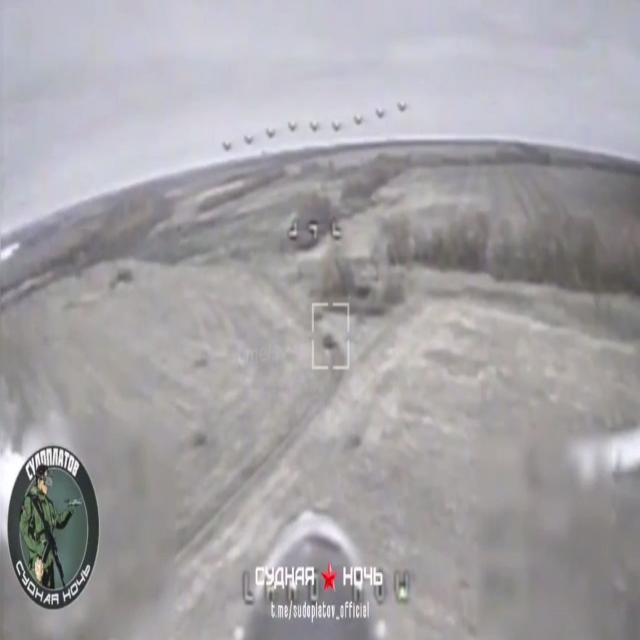vehicle: (316, 323, 343, 362)
